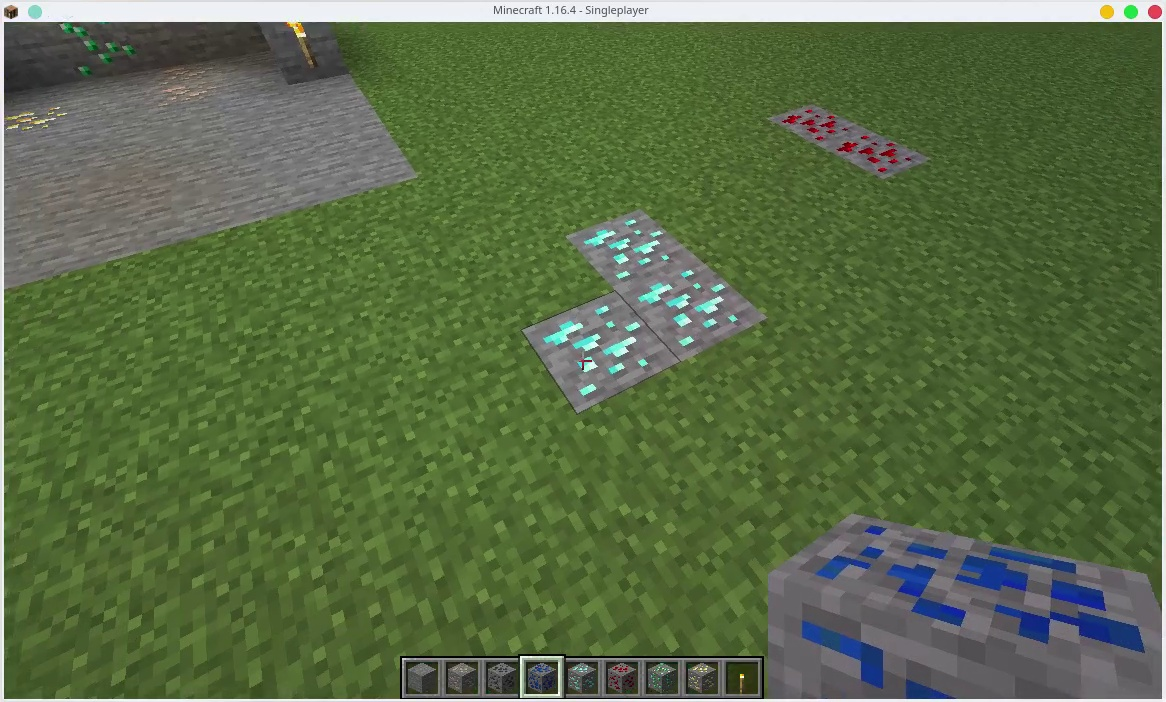gold: (2, 102, 69, 131), (687, 663, 720, 695)
